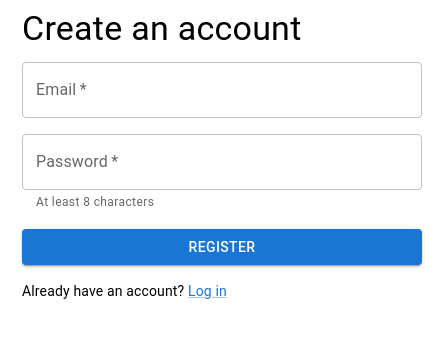
Test case: RegisterPage › validates email format and minimum password length
Expected: the button "Register" is shown, [22,229,422,265]
Type "not-an-email" into the field labelled "Email *".
click(222, 90); type("not-an-email")  # box [22,62,422,118]
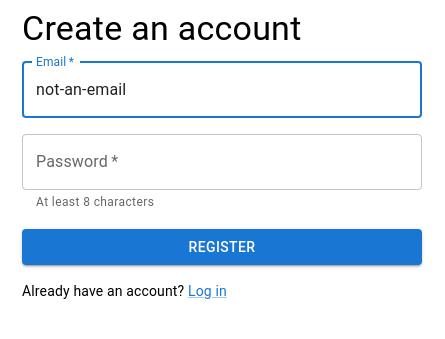
Type "short" into the password field labelled "Password *".
click(222, 162); type("short")  # box [22,134,422,190]
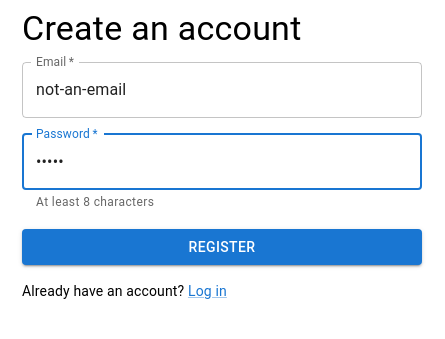
Click the button "Register".
click(222, 247)  # box [22,229,422,265]
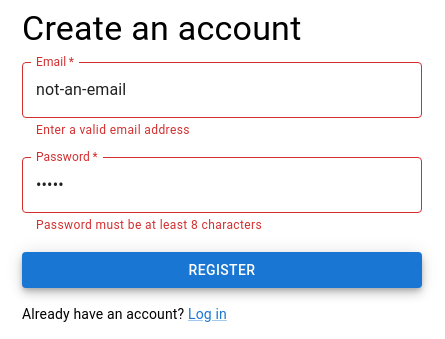
Expected: the text "Enter a valid email address" is shown, [36,123,190,137]
Expected: the text "Password must be at least 8 characters" is shown, [36,218,262,232]
